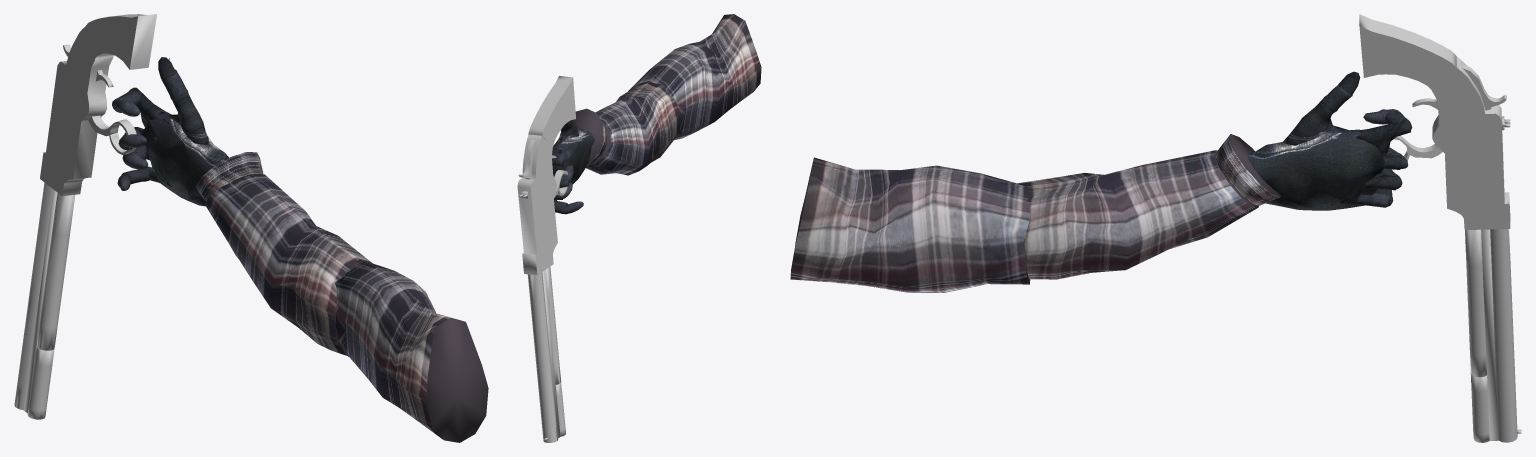
File: volcanic_f2.fbx
3 views of the same model, side by side, from view 1: azimuth 30°, elevation 25°; view 2: azimuth 150°, elevation 25°; view 3: azimuth 270°, elevation 25° (orthographic). The views are drawn at different scales.
Parts seen in each view (by area): view 1: rupperarm, rforearm, volcanic_body, volcanic_barrel, rhand, volcanic_grip, volcanic_magazinecap, rthumbback, volcanic_lever, rpfingerback; view 2: rupperarm, rforearm, volcanic_body, volcanic_barrel, volcanic_grip, rhand, volcanic_magazinecap, rthumbback, volcanic_hammer; view 3: rupperarm, rforearm, volcanic_body, volcanic_barrel, rhand, volcanic_grip, rthumbback, volcanic_magazinecap, rpfingerback.
Boxes of the visible parts, <box> form: rupperarm: <box>335,259,488,442</box>; rforearm: <box>196,152,372,355</box>; volcanic_body: <box>40,27,113,196</box>; volcanic_barrel: <box>14,182,75,413</box>; rhand: <box>141,115,228,206</box>; volcanic_grip: <box>85,14,156,69</box>; volcanic_magazinecap: <box>27,346,54,419</box>; rthumbback: <box>156,93,208,144</box>; volcanic_lever: <box>88,115,136,154</box>; rpfingerback: <box>129,87,165,127</box>; rupperarm: <box>628,14,761,140</box>; rforearm: <box>559,82,680,175</box>; volcanic_body: <box>517,134,557,275</box>; volcanic_barrel: <box>527,267,561,442</box>; volcanic_grip: <box>528,76,575,146</box>; rhand: <box>552,128,594,184</box>; volcanic_magazinecap: <box>555,382,565,436</box>; rthumbback: <box>553,120,579,149</box>; volcanic_hammer: <box>518,139,535,179</box>; rupperarm: <box>790,157,1030,292</box>; rforearm: <box>1017,134,1280,279</box>; volcanic_body: <box>1432,56,1510,229</box>; volcanic_barrel: <box>1465,229,1517,442</box>; rhand: <box>1247,132,1385,210</box>; volcanic_grip: <box>1359,14,1456,89</box>; rthumbback: <box>1282,99,1361,145</box>; volcanic_magazinecap: <box>1470,373,1489,442</box>; rpfingerback: <box>1356,118,1410,156</box>.
Size of the model in its own units: 6.64 by 19.78 by 29.4.
